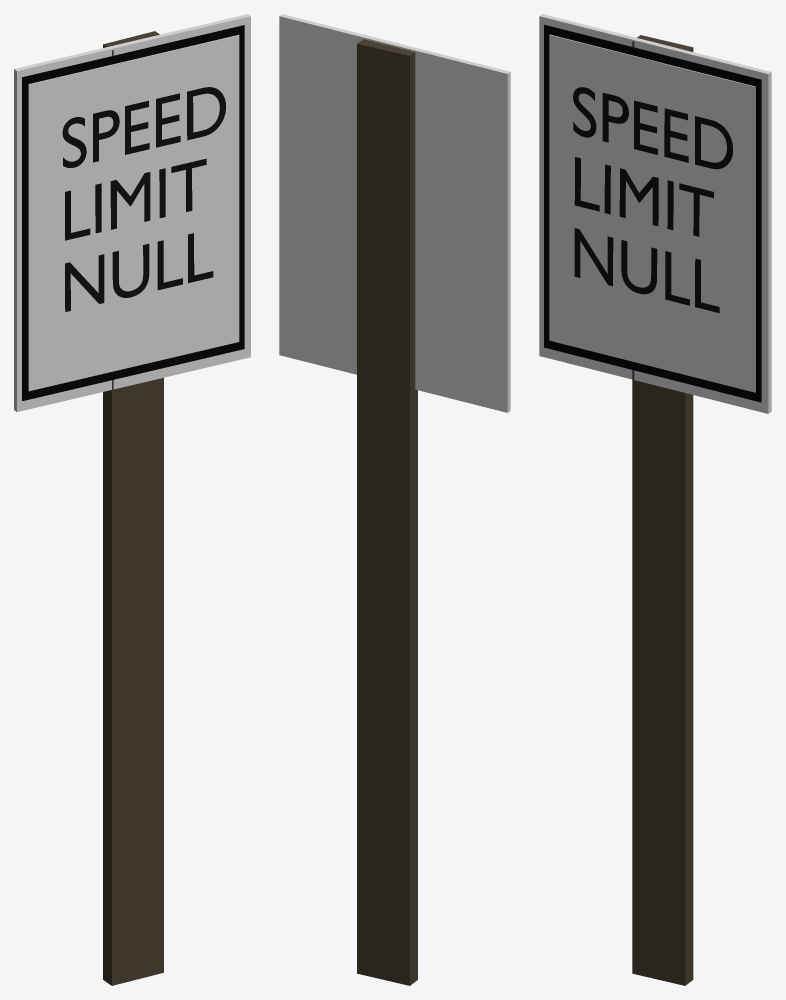
The model's file is speedLimitSign.fbx.
The picture shows the model from 3 angles, left to right: view 1: azimuth 30°, elevation 25°; view 2: azimuth 150°, elevation 25°; view 3: azimuth 330°, elevation 25°; orthographic projection.
Parts seen in each view (by area): view 1: Cube.003, Cube, Cube.001, Text, Cube.002; view 2: Cube.001, Cube; view 3: Cube.003, Cube, Cube.001, Text, Cube.002.
Boxes of the visible parts, bbox=[...] form: Cube.003: bbox=[28, 35, 239, 391]; Cube: bbox=[103, 31, 163, 985]; Cube.001: bbox=[14, 14, 250, 411]; Text: bbox=[62, 87, 225, 311]; Cube.002: bbox=[22, 25, 244, 400]; Cube.001: bbox=[279, 14, 510, 412]; Cube: bbox=[357, 39, 417, 985]; Cube.003: bbox=[549, 34, 755, 392]; Cube: bbox=[632, 35, 693, 985]; Cube.001: bbox=[539, 14, 771, 413]; Text: bbox=[573, 87, 732, 313]; Cube.002: bbox=[544, 24, 761, 402].
Bounding box in the file's own units: 241 × 932 × 28.74.
